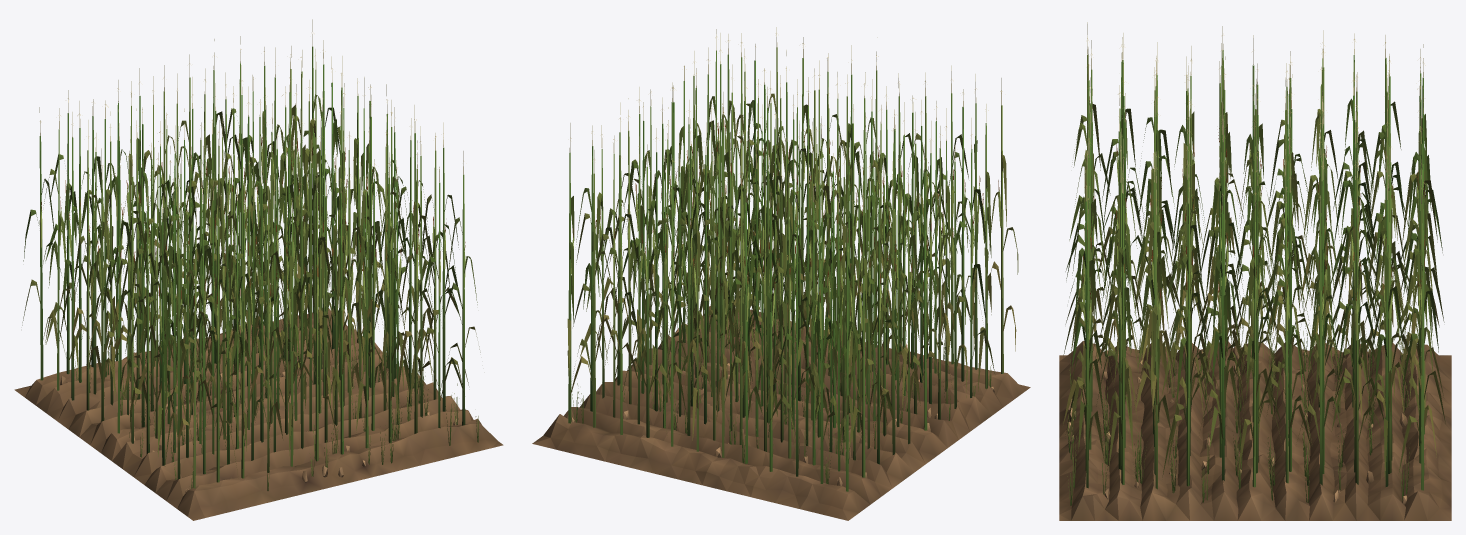
File: tall-crops.glb
3 views of the same model, side by side, from view 1: azimuth 30°, elevation 25°; view 2: azimuth 150°, elevation 25°; view 3: azimuth 270°, elevation 25° (orthographic). The views are drawn at different scales.
Parts seen in each view (by area): view 1: tall-crops; view 2: tall-crops; view 3: tall-crops.
Part boxes in pixels (<box>): tall-crops: <box>14,19,503,520</box>; tall-crops: <box>532,27,1030,520</box>; tall-crops: <box>1059,22,1451,520</box>.
Bounding box in the file's own units: 1 × 0.9897 × 1.
